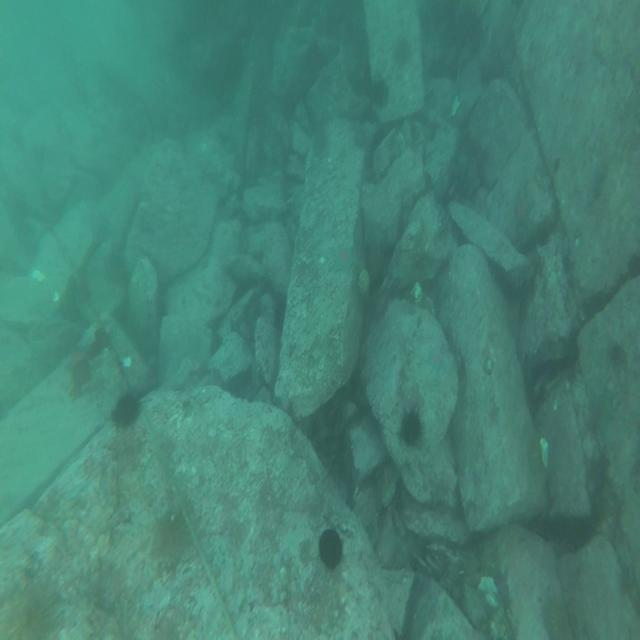echinus: (317, 525, 345, 568), (399, 410, 427, 449), (112, 392, 138, 423), (68, 362, 92, 390), (372, 79, 389, 109)
